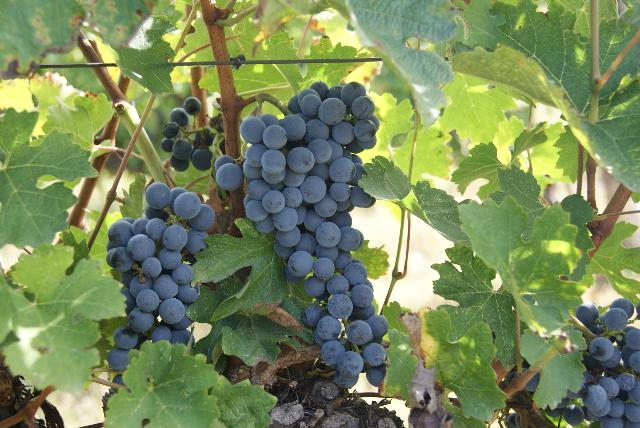grapes: (215, 82, 389, 388), (106, 182, 215, 370), (550, 299, 640, 428)
